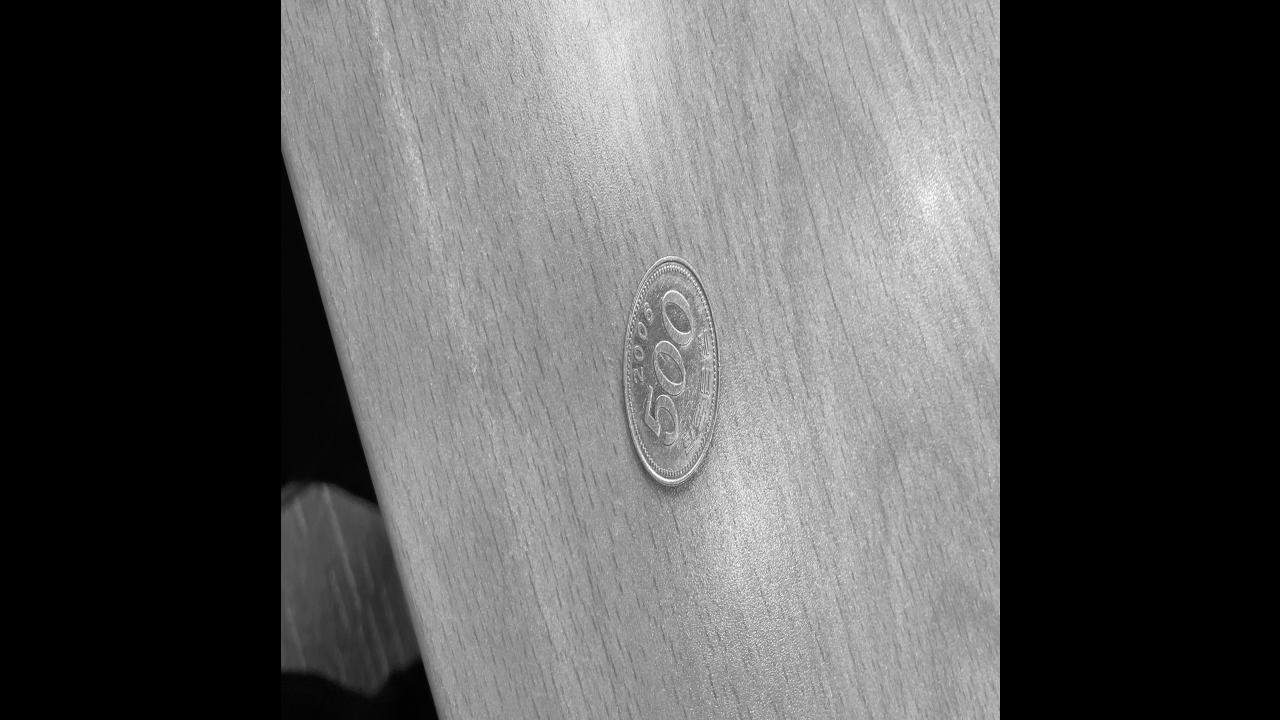coin: (621, 251, 722, 497)
